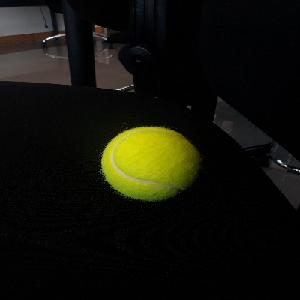Ball: (99, 124, 200, 202)
